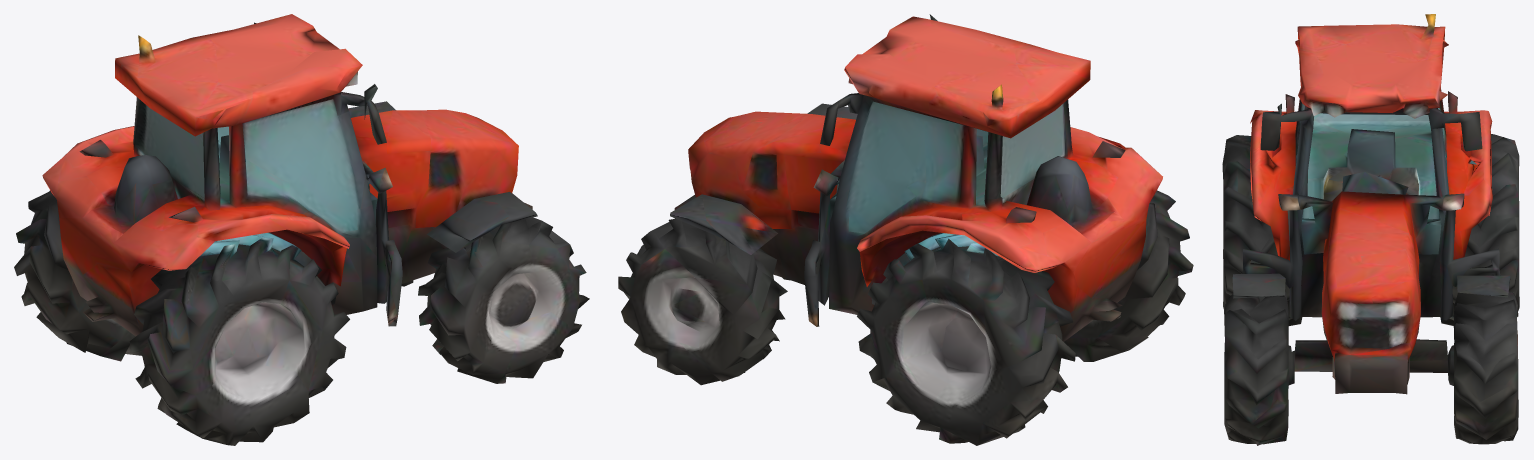
The model's file is tractor.glb.
3 views of the same model, side by side, from view 1: azimuth 30°, elevation 25°; view 2: azimuth 150°, elevation 25°; view 3: azimuth 270°, elevation 25° (orthographic). The views are drawn at different scales.
Visible parts, largest first — view 1: tripo_node_d35a7672-005d-4a11-a619-439c237ae6f3; view 2: tripo_node_d35a7672-005d-4a11-a619-439c237ae6f3; view 3: tripo_node_d35a7672-005d-4a11-a619-439c237ae6f3.
Part boxes in pixels (<box>): tripo_node_d35a7672-005d-4a11-a619-439c237ae6f3: <box>14,14,589,445</box>; tripo_node_d35a7672-005d-4a11-a619-439c237ae6f3: <box>618,14,1193,445</box>; tripo_node_d35a7672-005d-4a11-a619-439c237ae6f3: <box>1222,14,1519,445</box>.
Size of the model in its own units: 1 by 0.7457 by 0.6576.
Materials: 1 (1 with a texture image).
